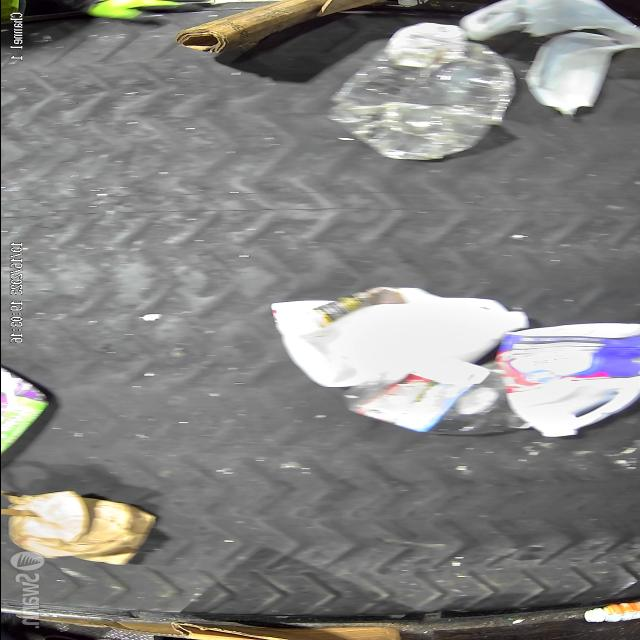milk_jug: (267, 285, 531, 389)
non_white_jug: (494, 320, 640, 439)
plastic_bottle: (329, 22, 518, 162), (339, 360, 536, 438)
